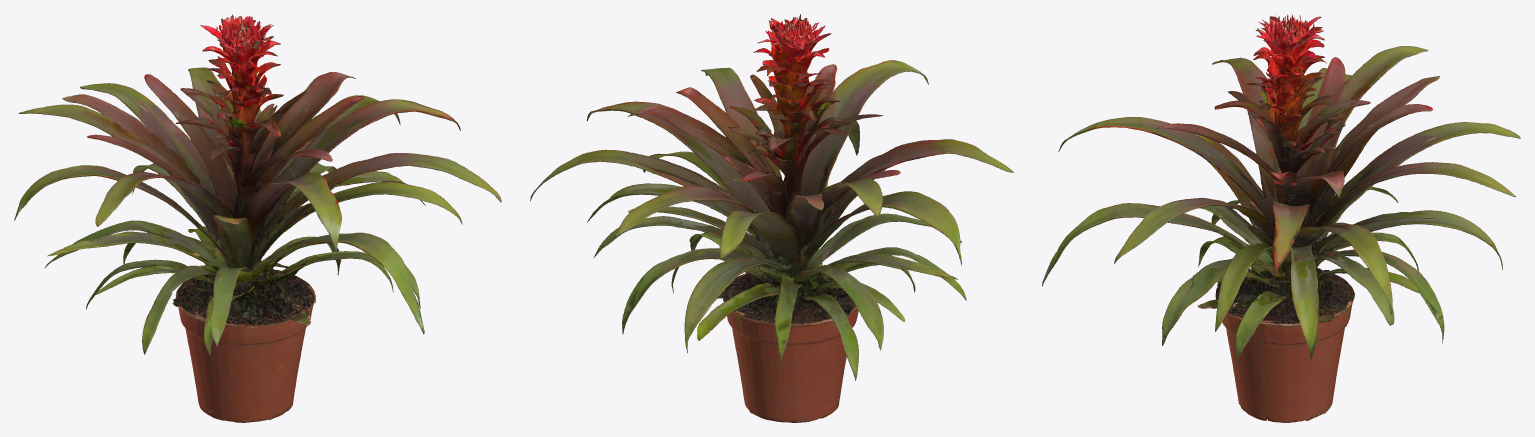
The model's file is GuzmaniaHope3dModel.glb.
3 views of the same model, side by side, from view 1: azimuth 30°, elevation 25°; view 2: azimuth 150°, elevation 25°; view 3: azimuth 270°, elevation 25° (orthographic).
Bounding box in the file's own units: 1.98 × 1.77 × 2.
1 material, 1 textured.
